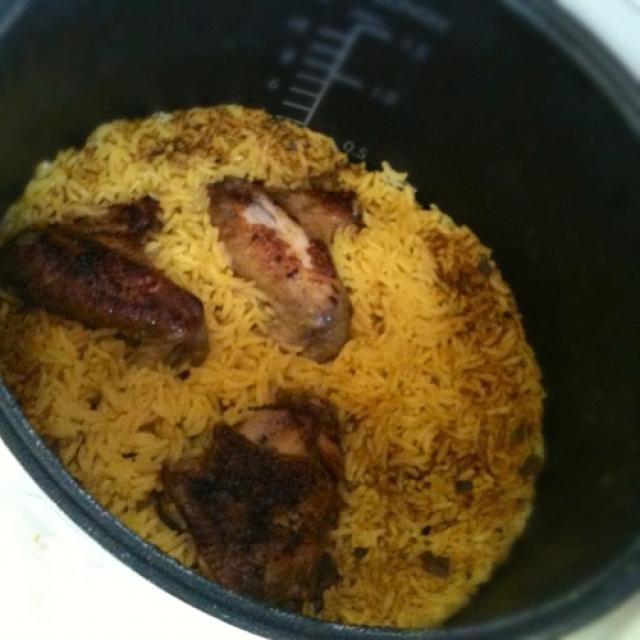米饭主食: (19, 39, 567, 634)
